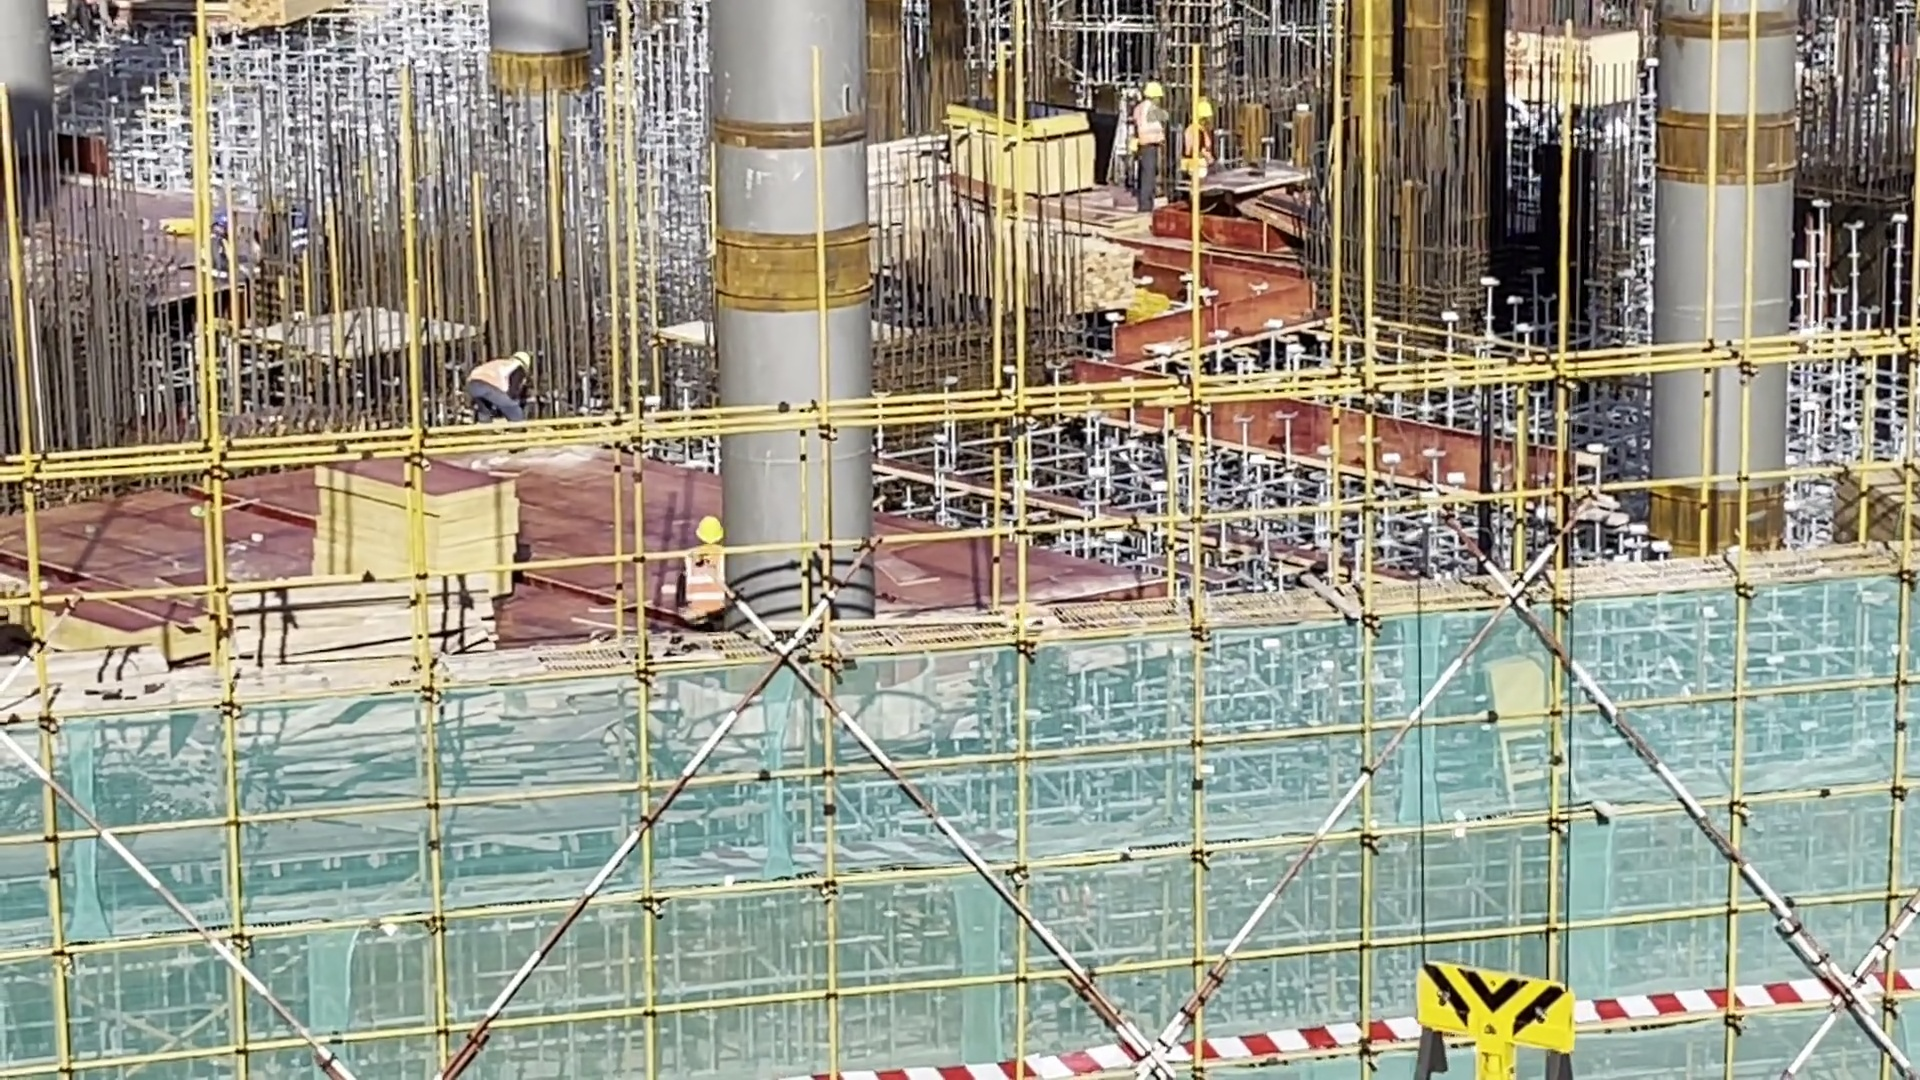board: (313, 448, 525, 615), (948, 102, 1101, 197), (1831, 459, 1920, 562)
ebox: (1483, 642, 1583, 810)
helmet: (695, 514, 727, 548), (1196, 99, 1215, 126), (512, 348, 533, 371), (1143, 81, 1165, 103)
hook: (1412, 932, 1593, 1080)
person: (450, 340, 544, 440), (677, 509, 736, 649), (1122, 77, 1173, 220), (1179, 90, 1225, 202)
vest: (681, 542, 725, 618), (468, 354, 512, 397), (1136, 98, 1169, 147), (1186, 121, 1216, 162)
wood: (211, 574, 494, 710), (230, 1, 325, 45)
